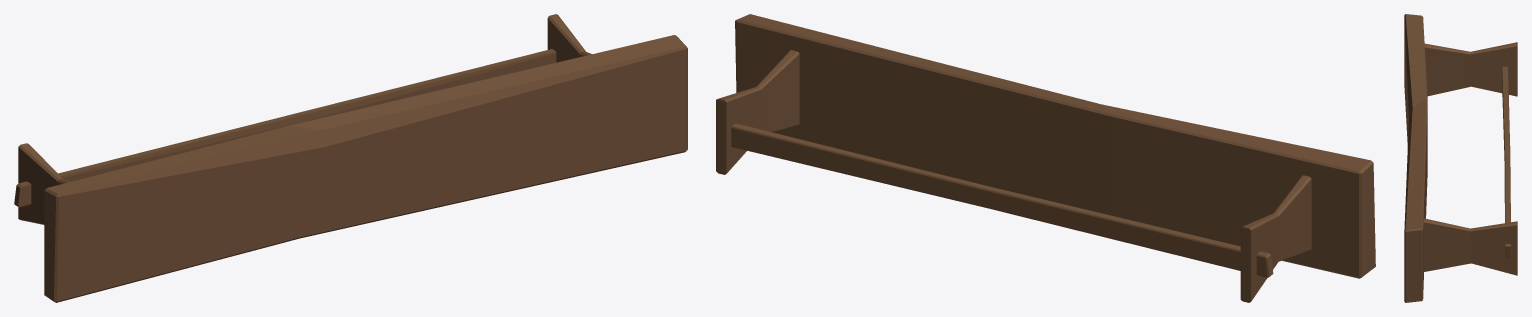
The model's file is Chair_03.fbx.
3 renders of one model, left to right at view 1: azimuth 30°, elevation 25°; view 2: azimuth 150°, elevation 25°; view 3: azimuth 270°, elevation 25°, orthographic. The views are drawn at different scales.
Parts seen in each view (by area): view 1: Chair_2.0_LOW.004; view 2: Chair_2.0_LOW.004; view 3: Chair_2.0_LOW.004.
Boxes of the visible parts, left/top/right/bottom form: Chair_2.0_LOW.004: left=14, top=14, right=687, bottom=302; Chair_2.0_LOW.004: left=716, top=14, right=1375, bottom=302; Chair_2.0_LOW.004: left=1404, top=14, right=1517, bottom=302.
Bounding box in the file's own units: 180 × 30.02 × 40.06.
